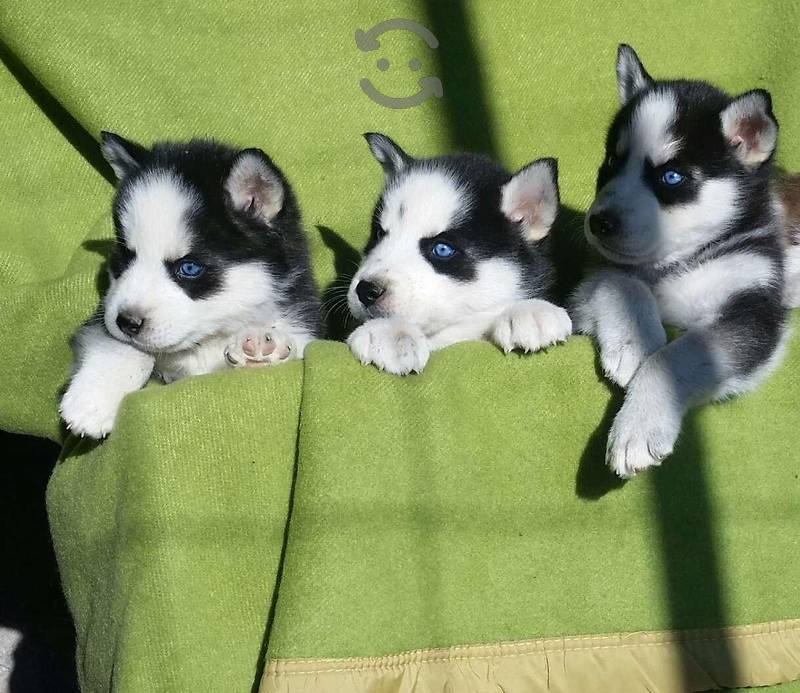husky: (77, 114, 312, 379), (344, 120, 568, 377), (586, 36, 797, 299)
